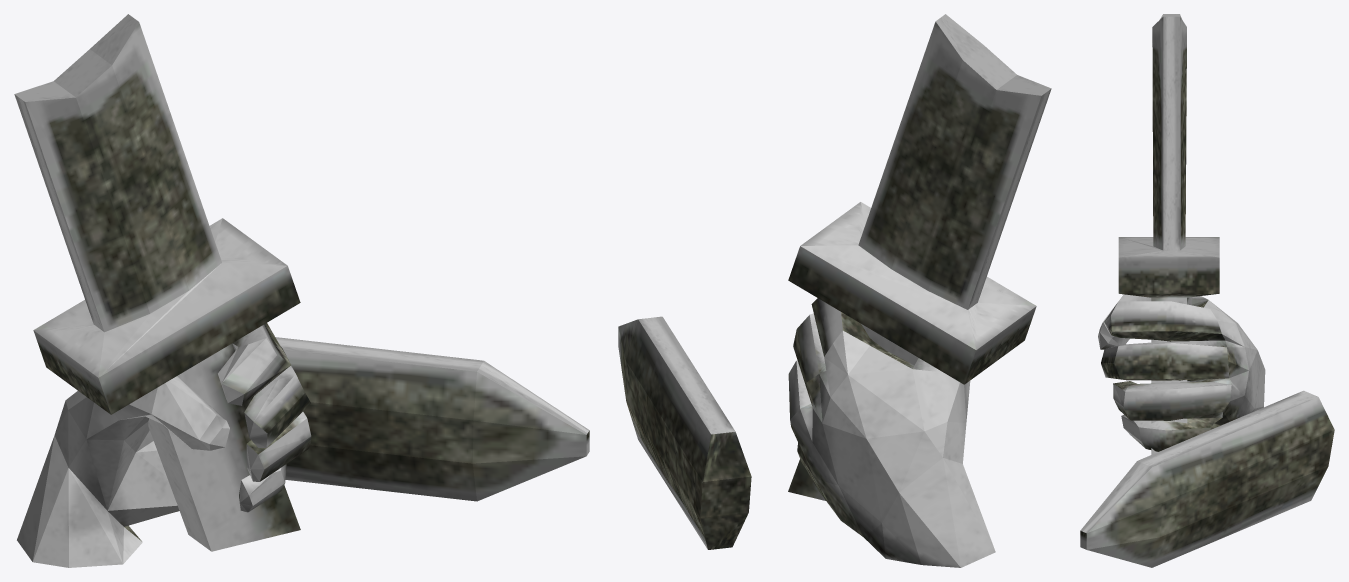
Rendered from ob-bigstatue02.fbx.
3 renders of one model, left to right at view 1: azimuth 30°, elevation 25°; view 2: azimuth 150°, elevation 25°; view 3: azimuth 270°, elevation 25°, orthographic. The views are drawn at different scales.
Parts seen in each view (by area): view 1: Object01; view 2: Object01; view 3: Object01.
Part boxes in pixels (x1,y1,x2,y2): Object01: [14, 14, 589, 567]; Object01: [618, 14, 1051, 567]; Object01: [1080, 14, 1334, 567].
Bounding box in the file's own units: 5.81 × 5.88 × 3.2.
